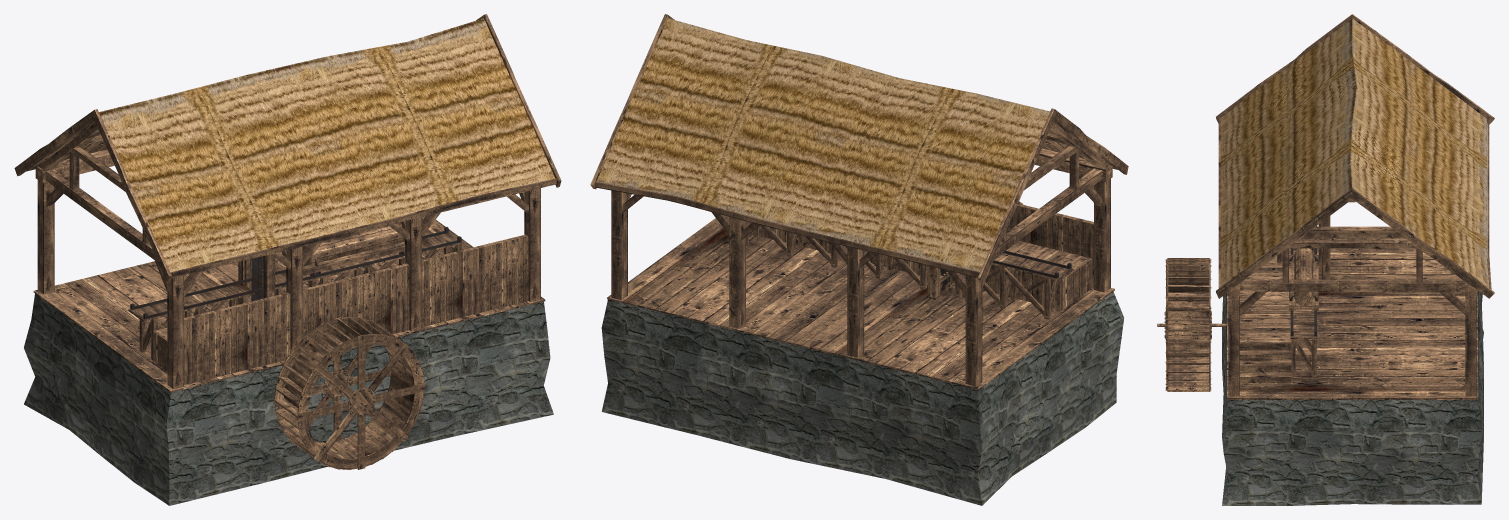
Rendered from Pr_Sawmill.glb.
3 renders of one model, left to right at view 1: azimuth 30°, elevation 25°; view 2: azimuth 150°, elevation 25°; view 3: azimuth 270°, elevation 25°, orthographic. The views are drawn at different scales.
Visible parts, largest first — view 1: Pr_Sawmill; view 2: Pr_Sawmill; view 3: Pr_Sawmill.
Part boxes in pixels (x1,y1,x2,y2): Pr_Sawmill: [14, 14, 561, 505]; Pr_Sawmill: [590, 14, 1128, 505]; Pr_Sawmill: [1157, 14, 1494, 505].
Size of the model in its own units: 7.74 by 6.5 by 6.25.
5 materials, 5 textured.
